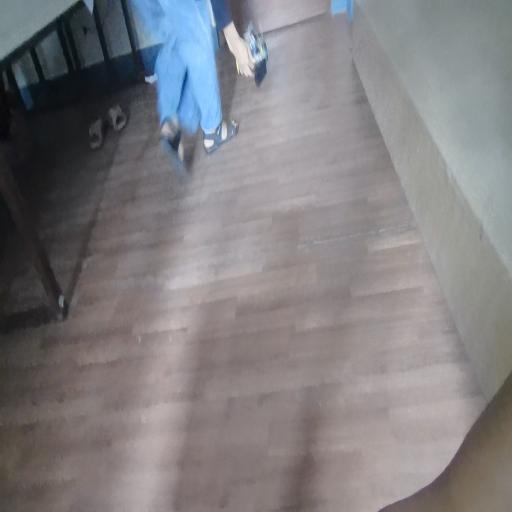car: (247, 27, 272, 69)
